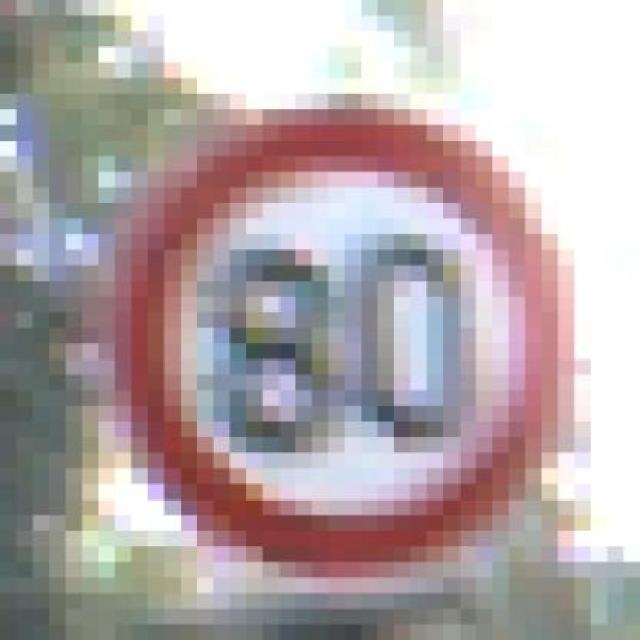forb_speed_over_80: (133, 111, 564, 558)
